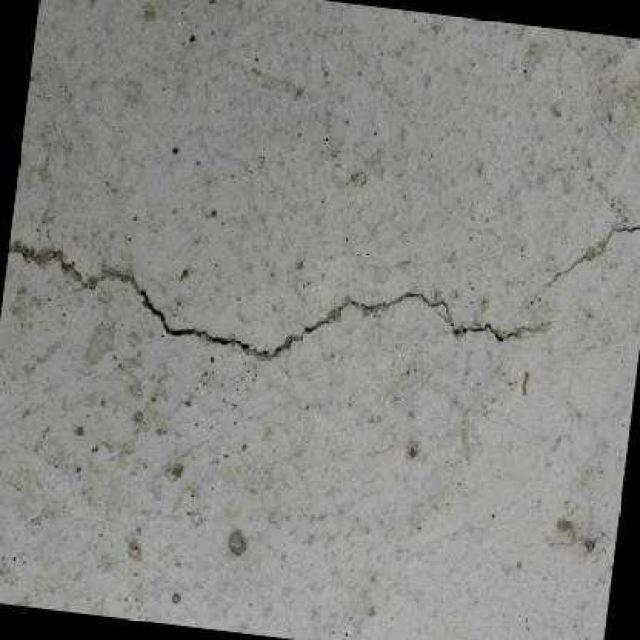D00: (136, 286, 514, 354)
